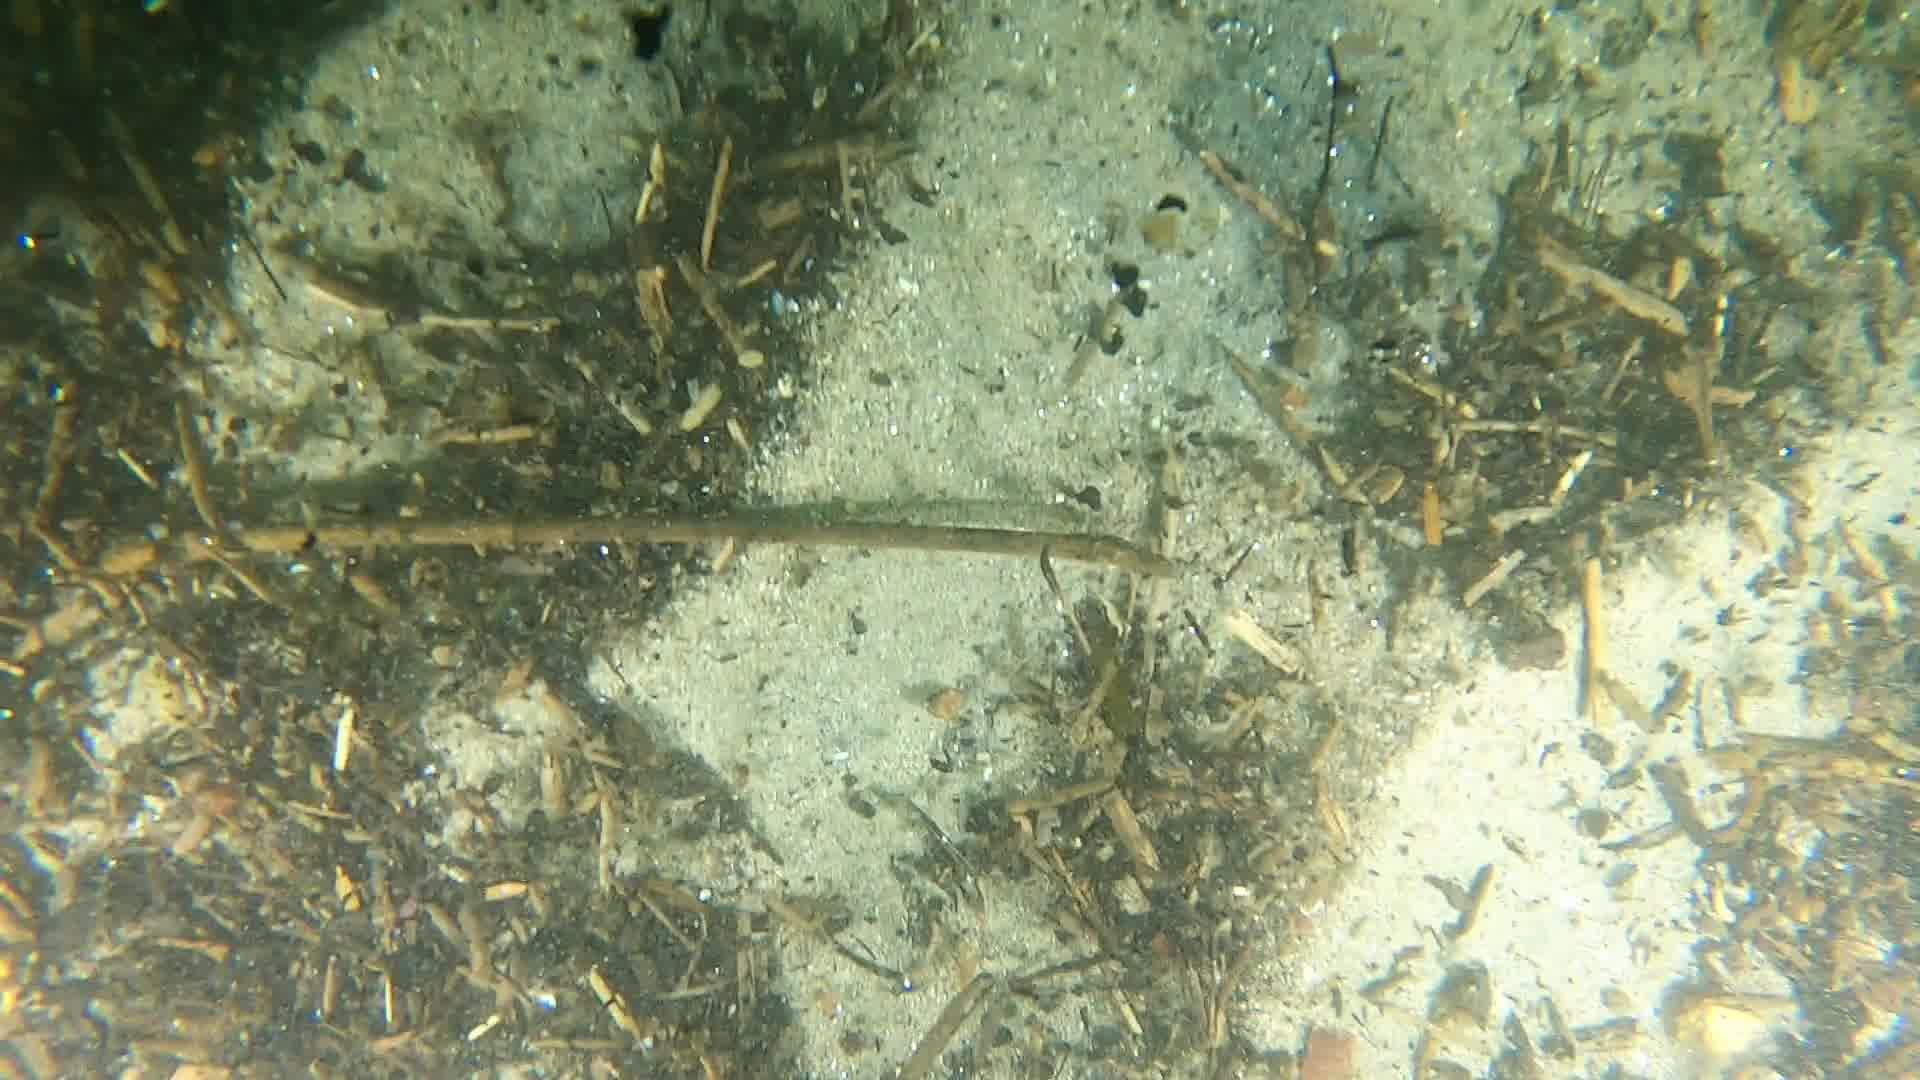wood: (0, 512, 1207, 582)
